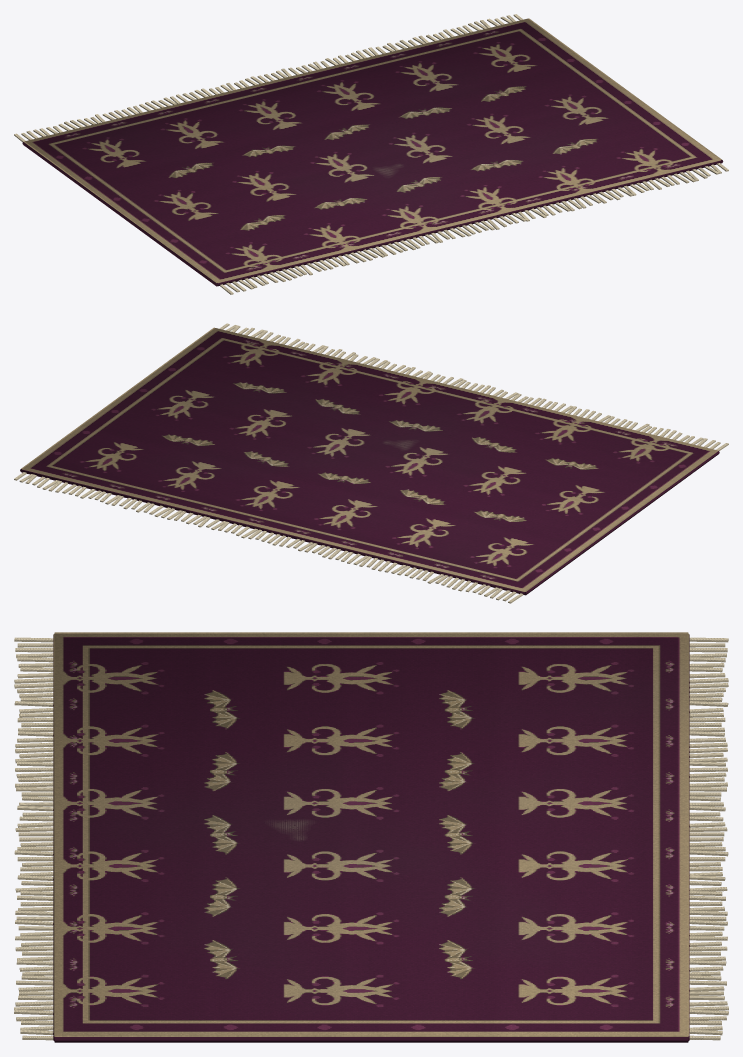
The model's file is BatDamaskRugWorn.fbx.
3 views of the same model, one above another, from view 1: azimuth 30°, elevation 25°; view 2: azimuth 150°, elevation 25°; view 3: azimuth 270°, elevation 25° (orthographic). The views are drawn at different scales.
Parts seen in each view (by area): view 1: BatDamaskRugWorn; view 2: BatDamaskRugWorn; view 3: BatDamaskRugWorn.
Part boxes in pixels (<box>): BatDamaskRugWorn: <box>14,14,728,294</box>; BatDamaskRugWorn: <box>14,323,728,603</box>; BatDamaskRugWorn: <box>14,632,728,1042</box>.
Bounding box in the file's own units: 907 × 6 × 674.
